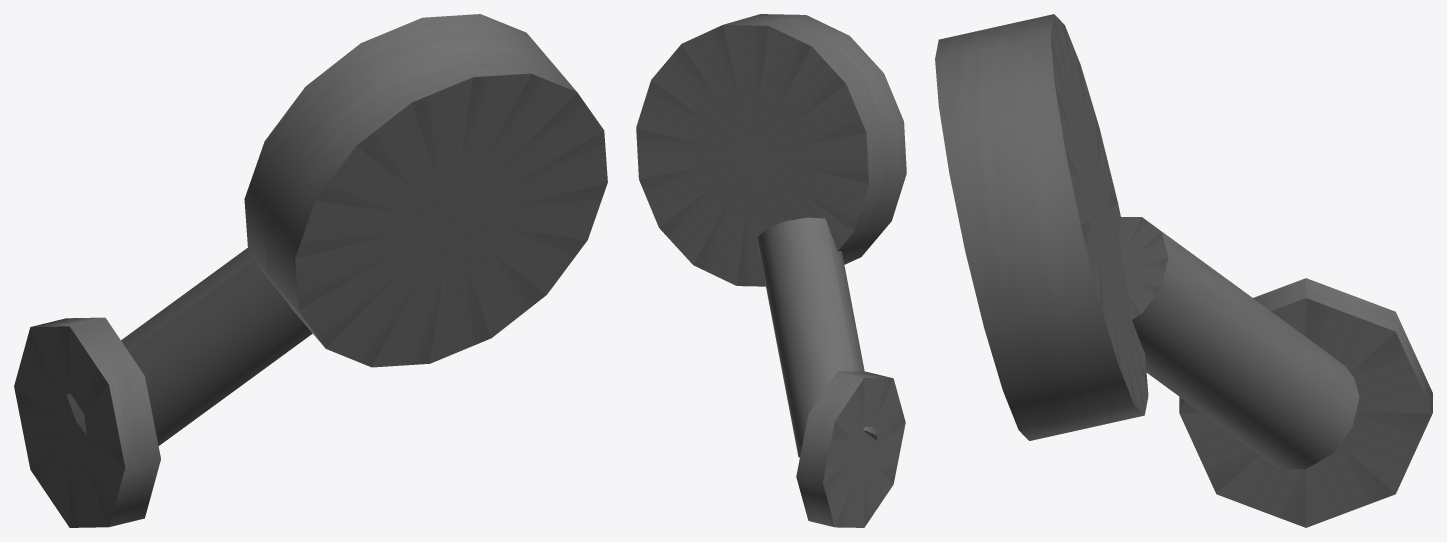
Rendered from mastarmcurve_8x2_c5_west.obj.
3 renders of one model, left to right at view 1: azimuth 30°, elevation 25°; view 2: azimuth 150°, elevation 25°; view 3: azimuth 270°, elevation 25°, orthographic. The views are drawn at different scales.
Visible parts, largest first — view 1: mastarm_8x2_c5_west; view 2: mastarm_8x2_c5_west; view 3: mastarm_8x2_c5_west.
Part boxes in pixels (left/top/right/bottom): mastarm_8x2_c5_west: left=14, top=14, right=607, bottom=527; mastarm_8x2_c5_west: left=636, top=14, right=906, bottom=527; mastarm_8x2_c5_west: left=935, top=14, right=1432, bottom=527.
Bounding box in the file's own units: 0.8348 × 1.06 × 0.7849.
